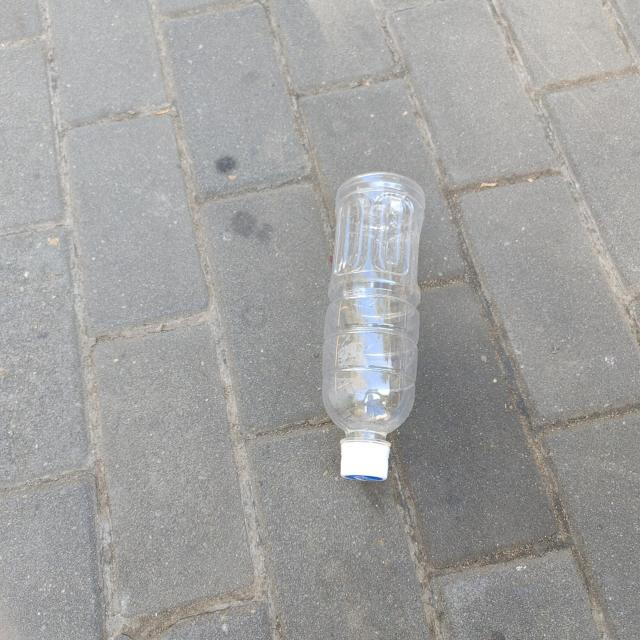plastic: (323, 172, 426, 482)
